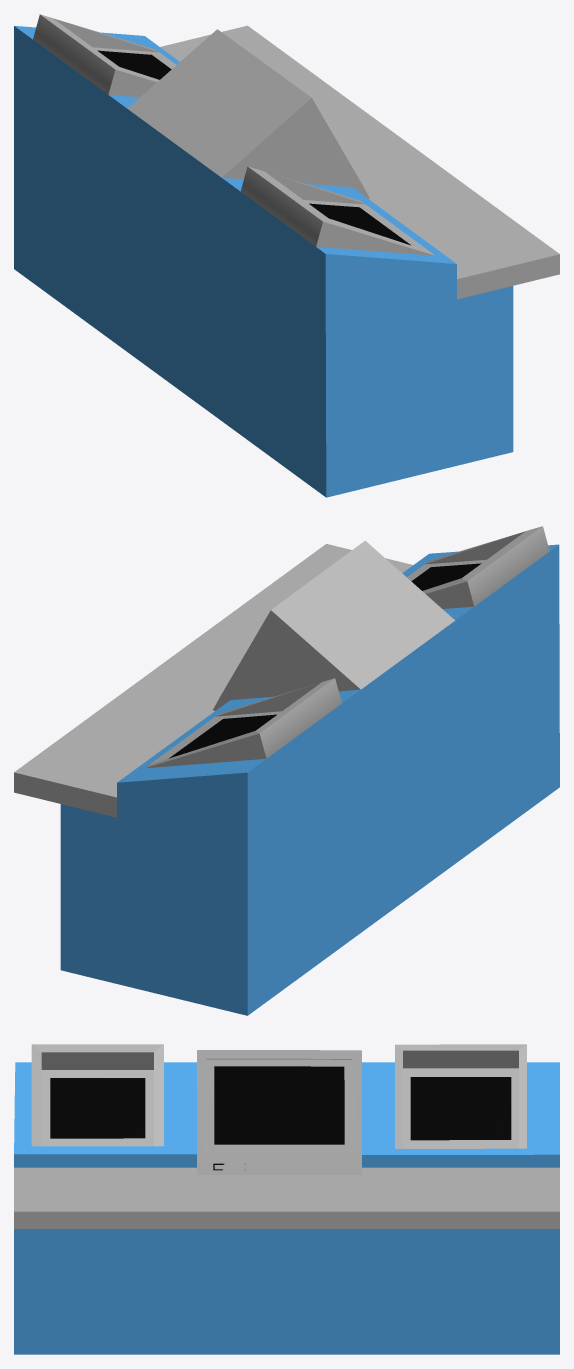
Rendered from D_ComputerConsole.fbx.
3 views of the same model, one above another, from view 1: azimuth 30°, elevation 25°; view 2: azimuth 150°, elevation 25°; view 3: azimuth 270°, elevation 25° (orthographic). The views are drawn at different scales.
Visible parts, largest first — view 1: D_ComputerConsole; view 2: D_ComputerConsole; view 3: D_ComputerConsole.
Part boxes in pixels (<box>): D_ComputerConsole: <box>14,14,559,497</box>; D_ComputerConsole: <box>14,526,559,1015</box>; D_ComputerConsole: <box>14,1044,559,1354</box>.
Bounding box in the file's own units: 4.54 × 5.59 × 10.5.
Materials: 3 (3 with a texture image).
